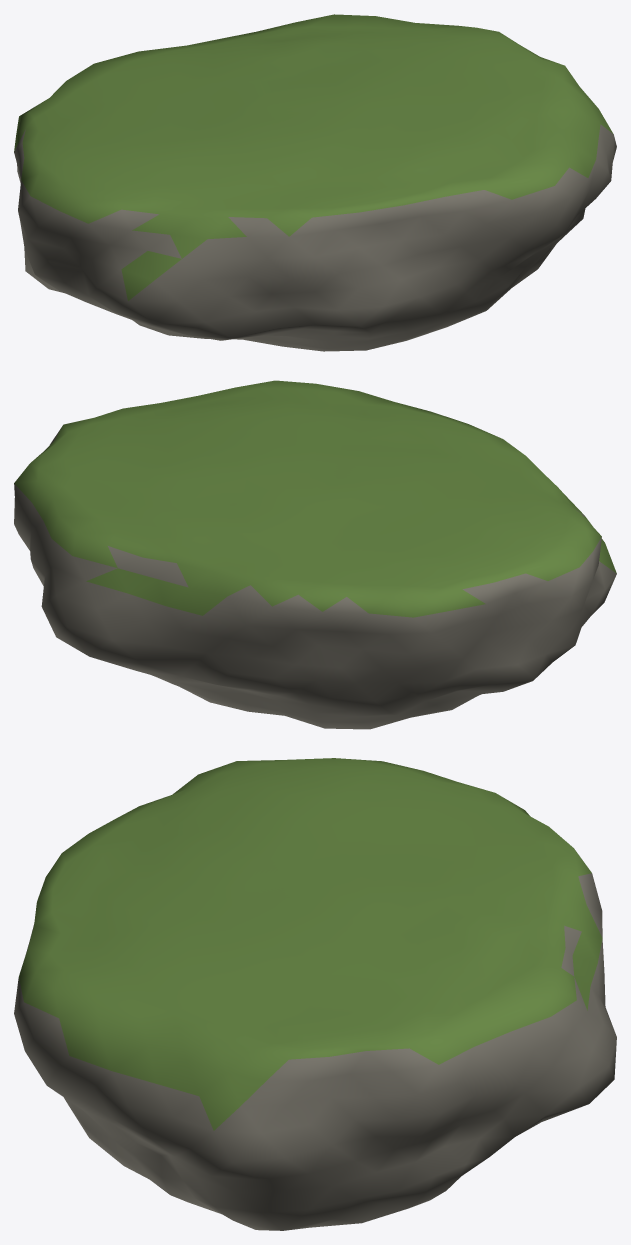
File: rock.glb
3 views of the same model, one above another, from view 1: azimuth 30°, elevation 25°; view 2: azimuth 150°, elevation 25°; view 3: azimuth 270°, elevation 25° (orthographic). The views are drawn at different scales.
Visible parts, largest first — view 1: rock; view 2: rock; view 3: rock.
Part boxes in pixels (x1,y1,x2,y2): rock: (14, 14, 616, 351); rock: (14, 380, 616, 729); rock: (14, 758, 616, 1230).
Size of the model in its own units: 2.87 by 1.04 by 2.22.
